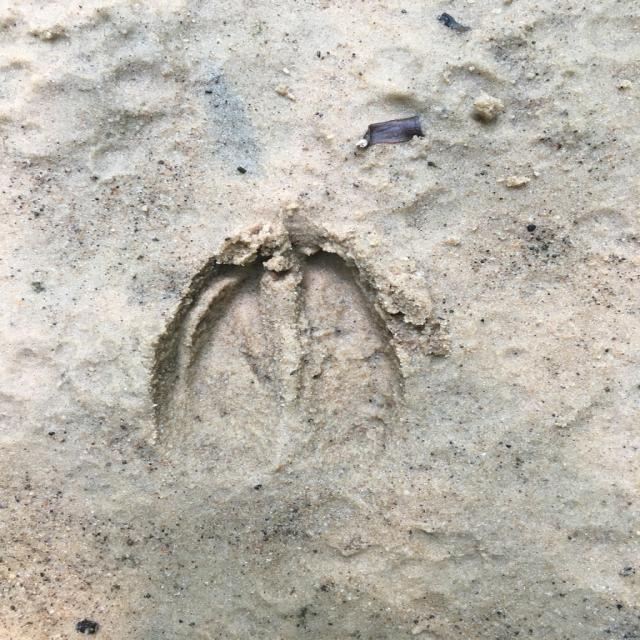deer: (155, 236, 410, 494)
